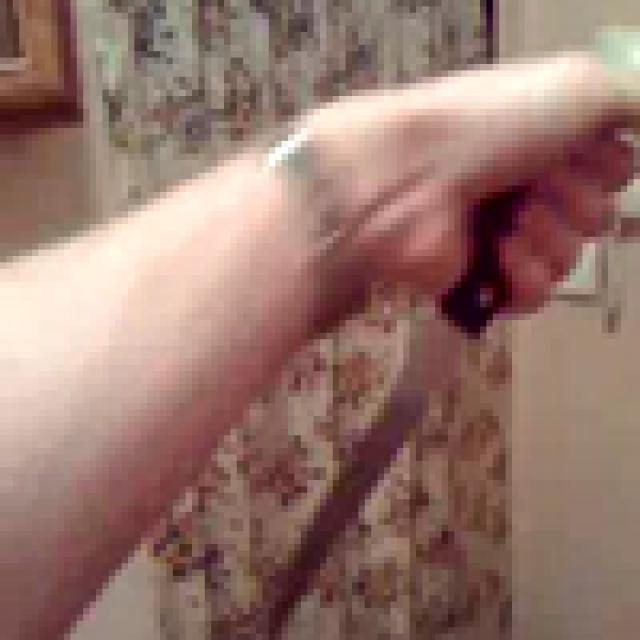knife: (249, 25, 614, 640)
